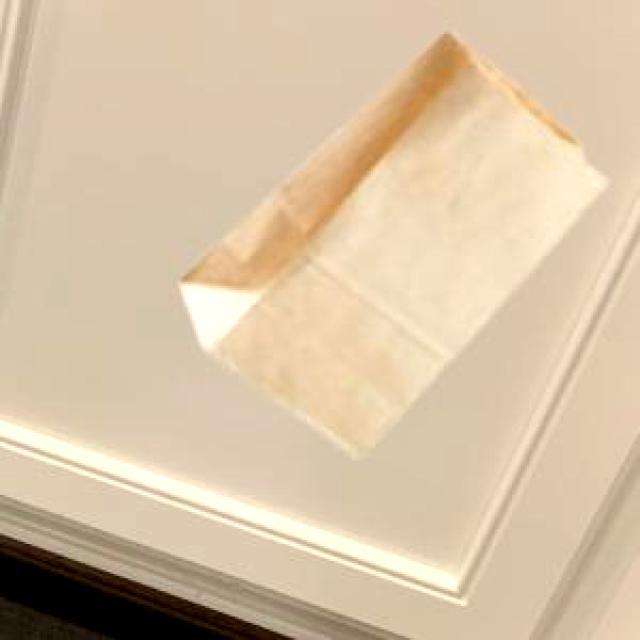Paper_Bag: (178, 29, 603, 454)
